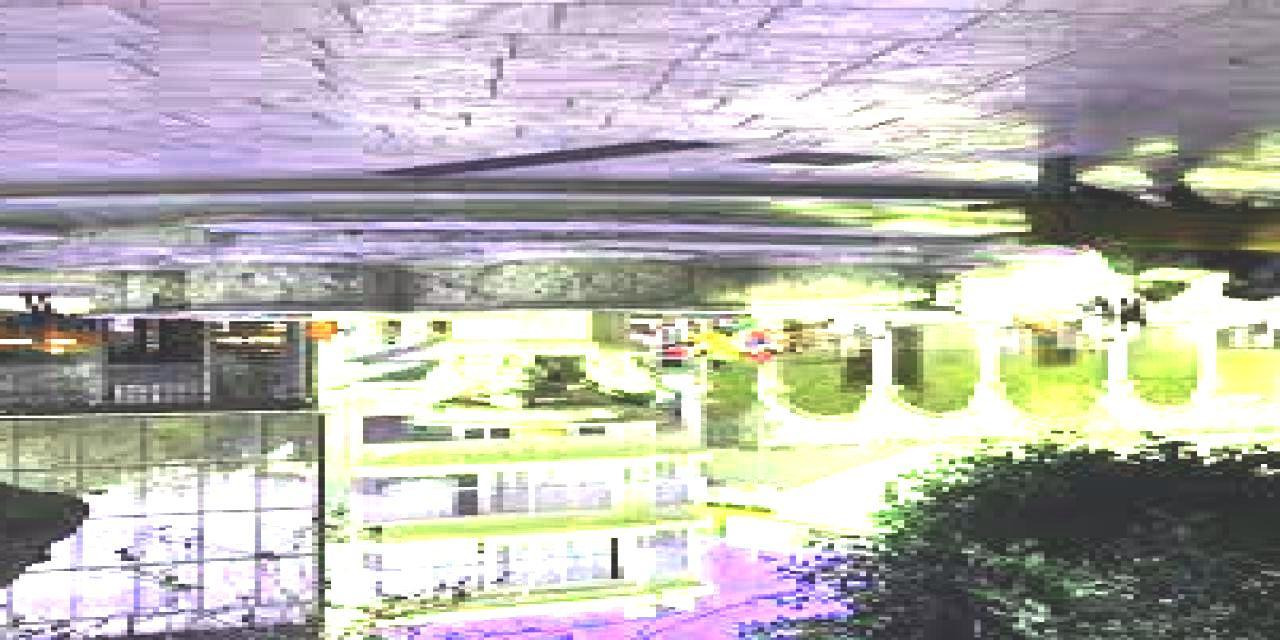Liontaria: (96, 257, 944, 428)
